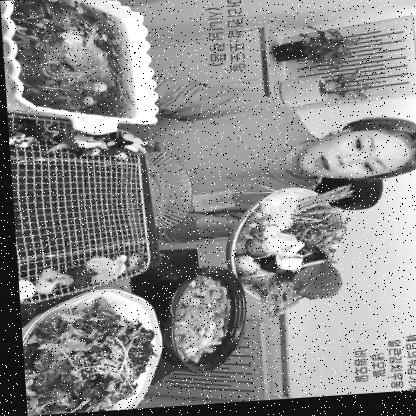streamer: (146, 63, 416, 246)
